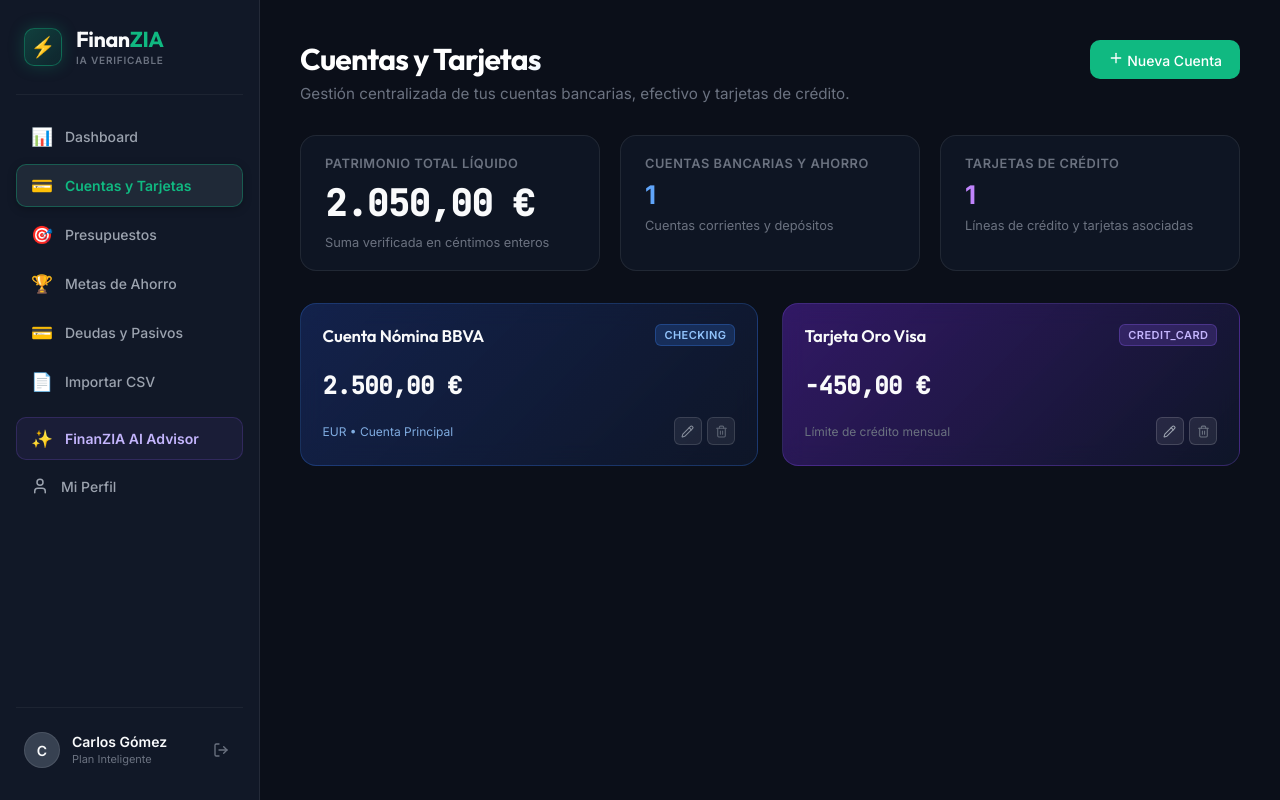
Test: AccountsPage Component (/accounts) › abre el modal EditAccountModal al pulsar el botón de modificar
The width and height of the screenshot is (1280, 800).
Step 1. Click the button named "Modificar Cuenta Nómina BBVA" → {"x": 688, "y": 431}, box [674,417,702,445]
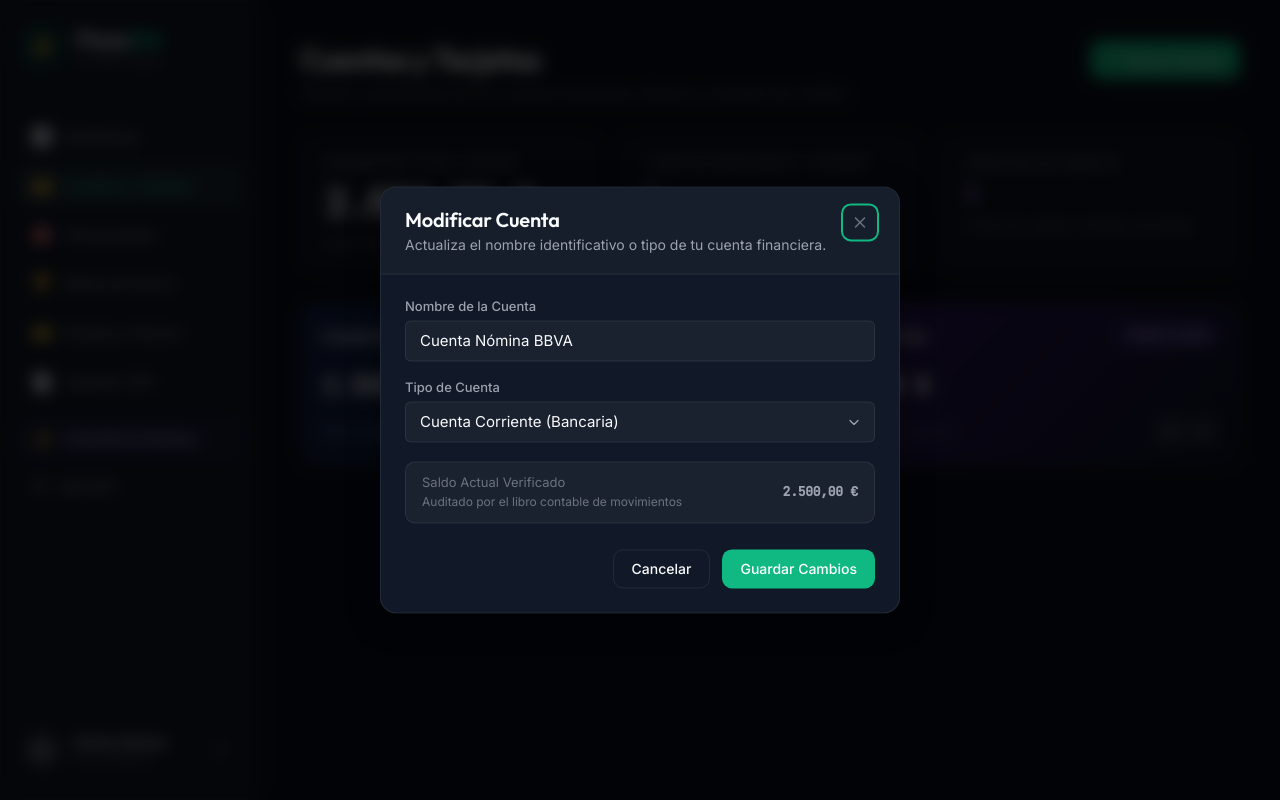
expect the heading "Modificar Cuenta" is shown: met, box [405,207,560,232]
expect the field labelled "Nombre de la Cuenta" holds "Cuenta Nómina BBVA": met, box [405,320,875,361]
